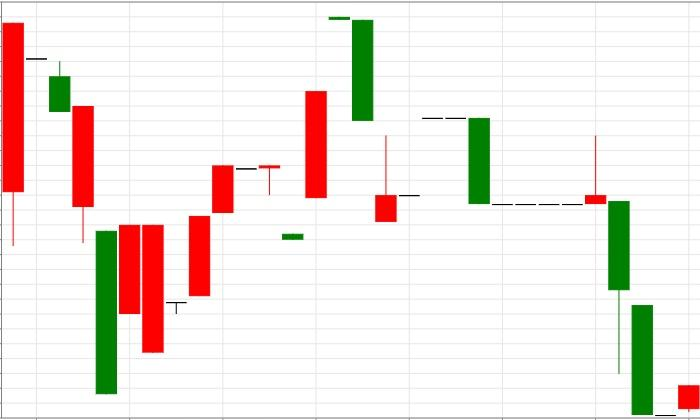inverse_hammer_rise: (329, 16, 397, 222)
